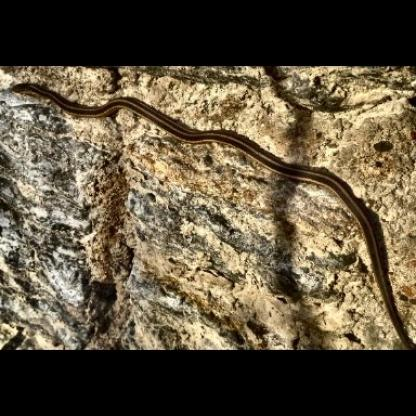Snake: (9, 77, 312, 193)
